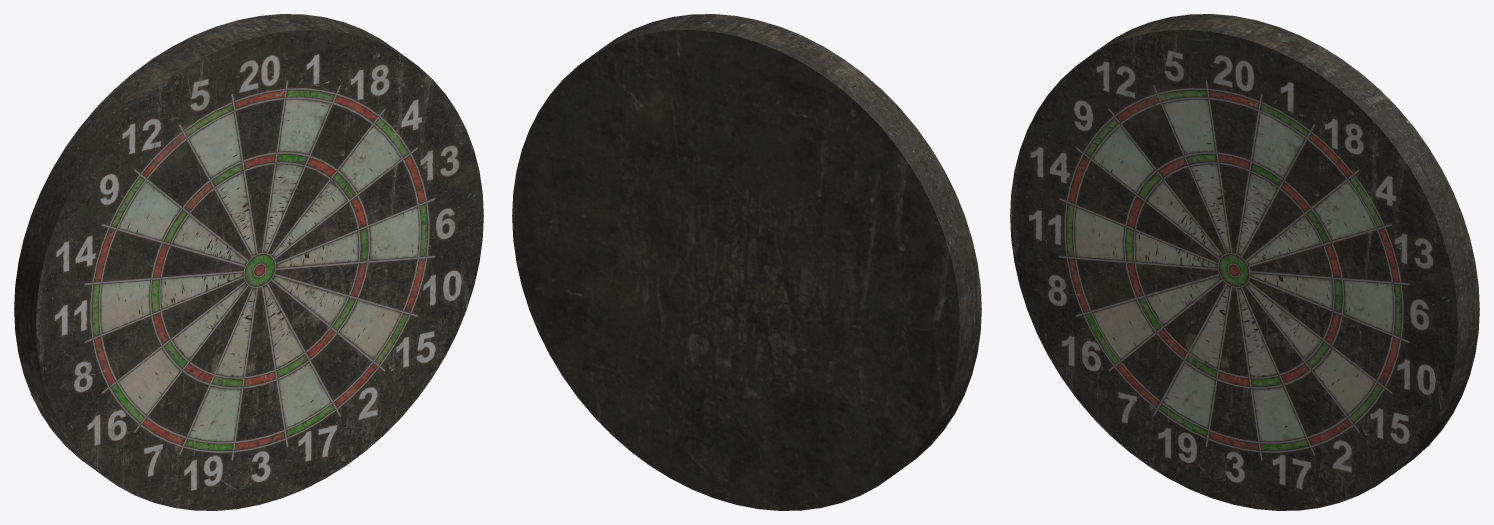
Rendered from dartboard.fbx.
3 renders of one model, left to right at view 1: azimuth 30°, elevation 25°; view 2: azimuth 150°, elevation 25°; view 3: azimuth 330°, elevation 25°, orthographic.
Visible parts, largest first — view 1: dartboard; view 2: dartboard; view 3: dartboard.
Boxes of the visible parts, x1,y1,x2,y2 form: dartboard: (14,14,483,510); dartboard: (512,14,981,510); dartboard: (1010,14,1479,510).
Bounding box in the file's own units: 17.76 × 1.5 × 17.76.
